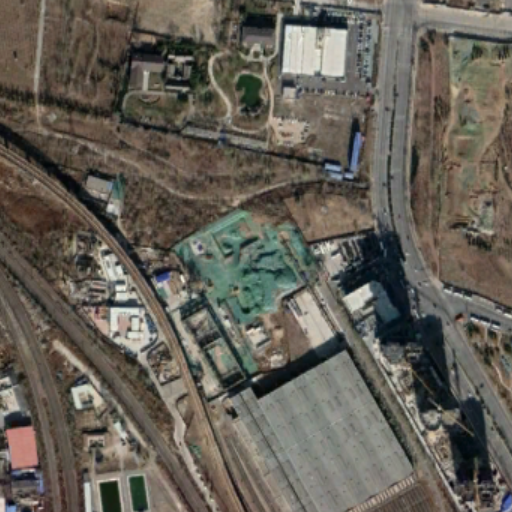cw: (171, 205, 324, 393)
